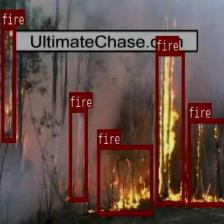fire: (155, 51, 184, 204), (97, 145, 152, 214), (187, 118, 224, 205), (68, 108, 86, 200), (1, 24, 15, 142)
